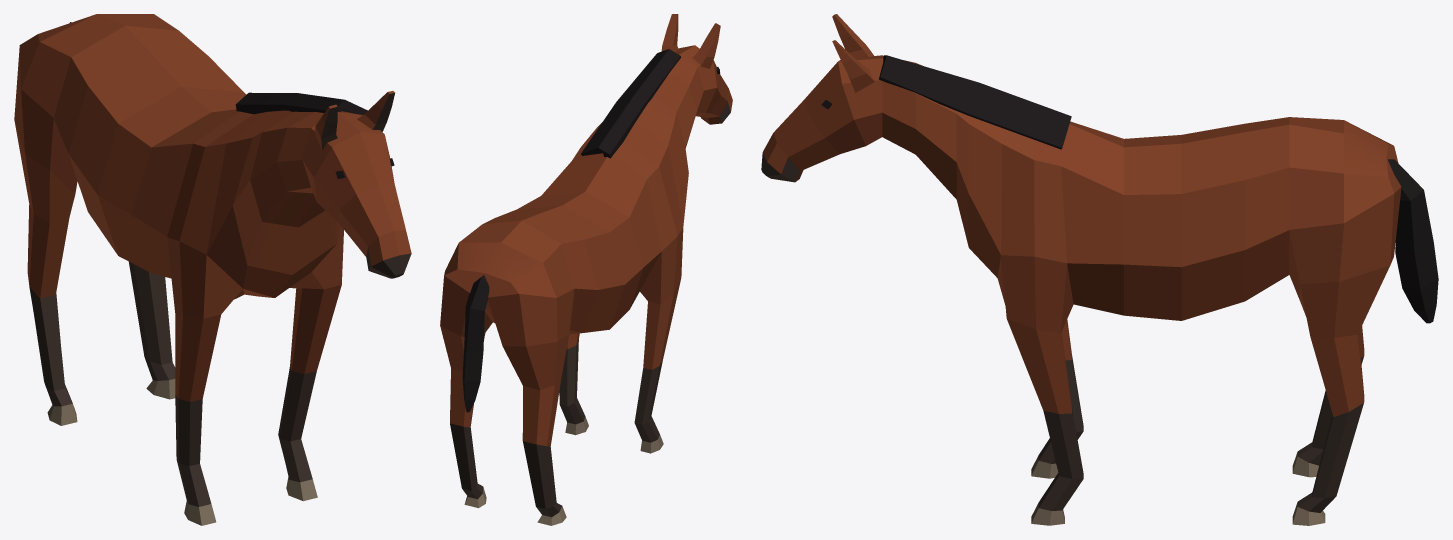
Rendered from Mesh_Horse.obj.
The picture shows the model from 3 angles, left to right: view 1: azimuth 30°, elevation 25°; view 2: azimuth 150°, elevation 25°; view 3: azimuth 270°, elevation 25°; orthographic projection. The views are drawn at different scales.
Parts seen in each view (by area): view 1: Geo_Horse; view 2: Geo_Horse; view 3: Geo_Horse.
Part boxes in pixels (x1,y1,x2,y2): Geo_Horse: (14,14,411,525); Geo_Horse: (440,14,732,525); Geo_Horse: (761,14,1438,525).
Bounding box in the file's own units: 73.07 × 203 × 266.
